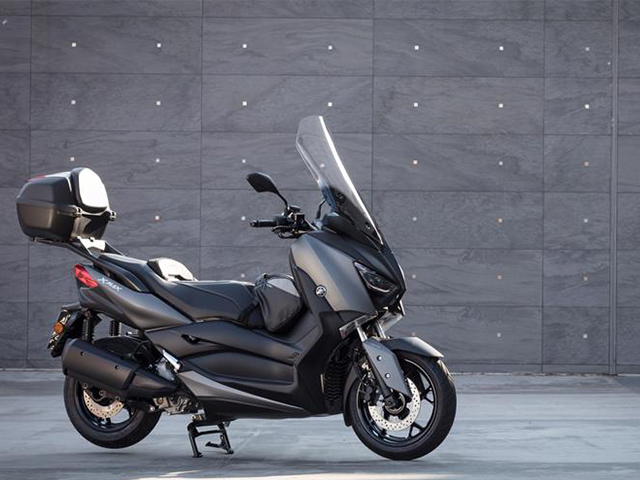motorcycle: (14, 118, 468, 462)
